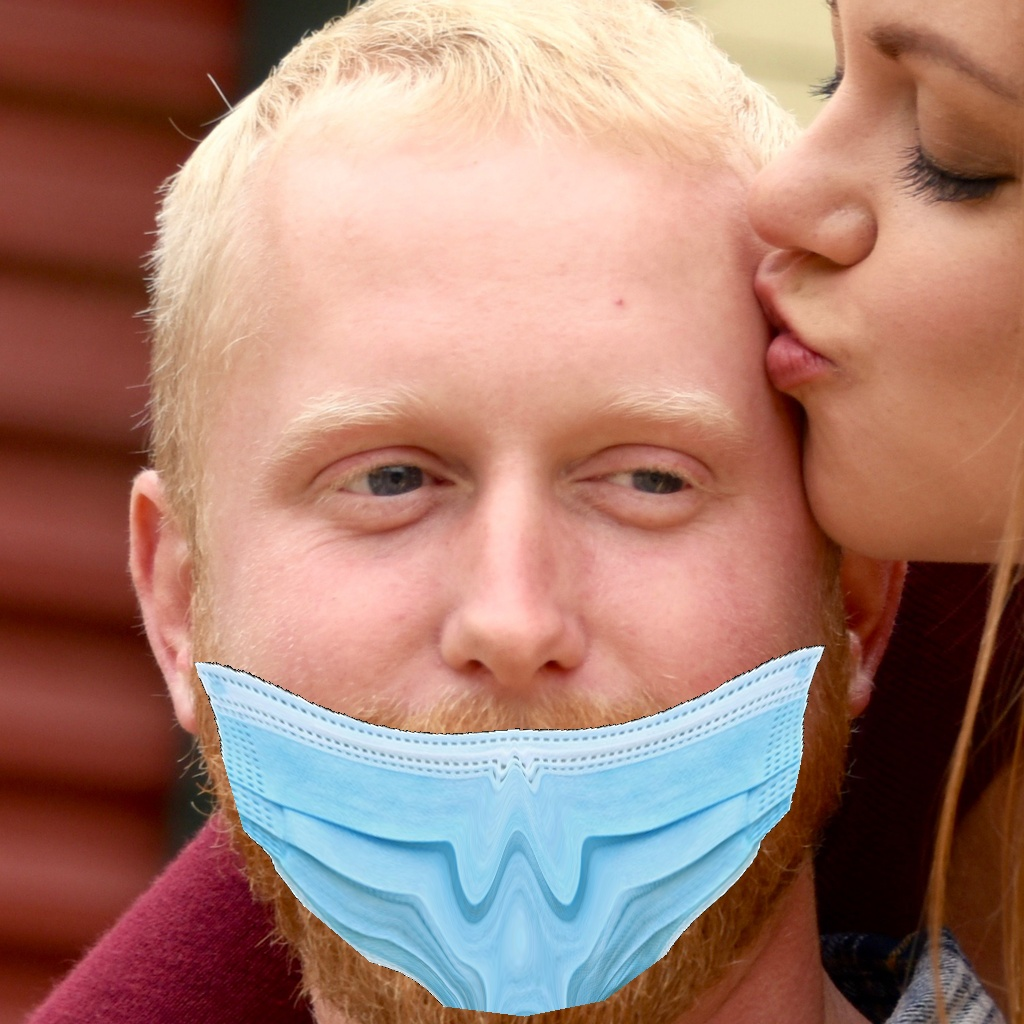mascarilla_mal_puesta: (164, 368, 884, 1024)
